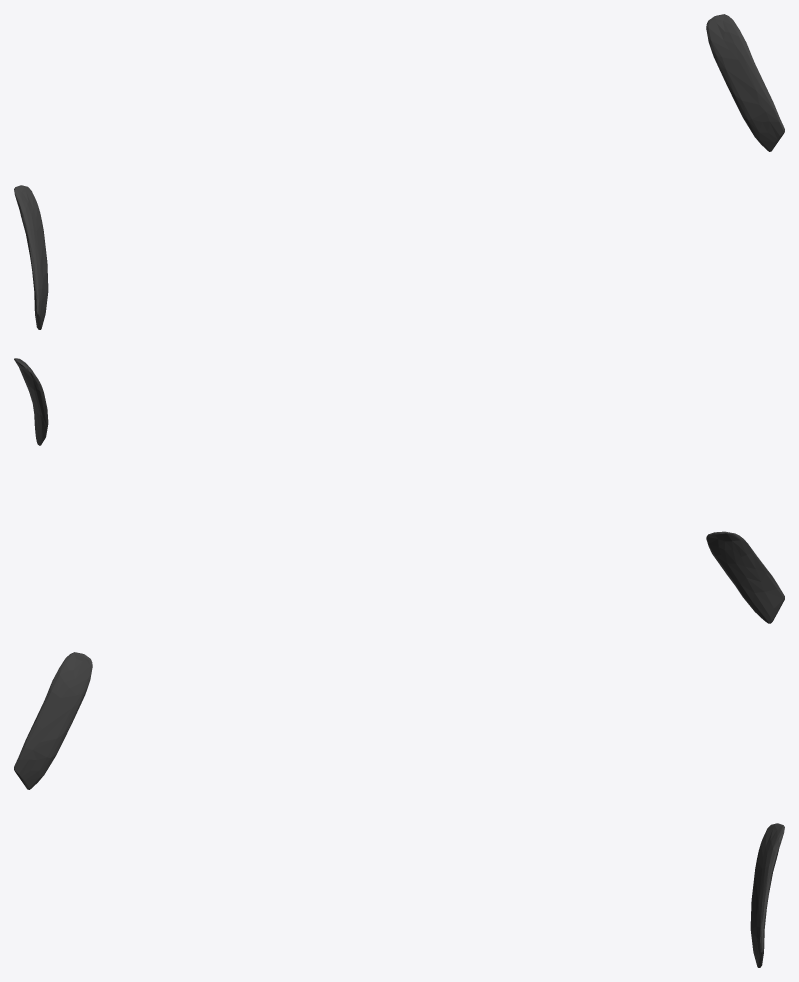
Rendered from lig_accessory_metacarpal.glb.
3 renders of one model, top to bottom at view 1: azimuth 30°, elevation 25°; view 2: azimuth 150°, elevation 25°; view 3: azimuth 330°, elevation 25°, orthographic.
Parts seen in each view (by area): view 1: lig_accessory_metacarpal; view 2: lig_accessory_metacarpal; view 3: lig_accessory_metacarpal.
Boxes of the visible parts, <box> form: lig_accessory_metacarpal: <box>14,14,784,329</box>; lig_accessory_metacarpal: <box>14,358,784,623</box>; lig_accessory_metacarpal: <box>14,652,784,967</box>.
Size of the model in its own units: 0.0044 by 0.000643 by 0.000445.
1 material, 1 textured.
